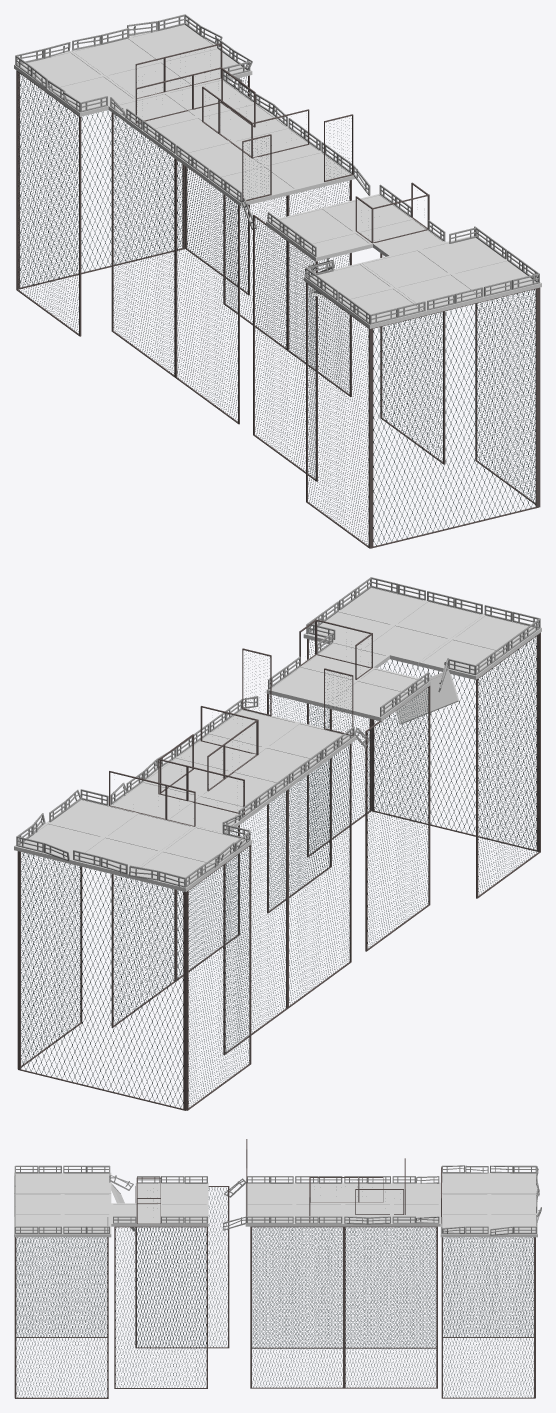
Rendered from stage.fbx.
3 renders of one model, top to bottom at view 1: azimuth 30°, elevation 25°; view 2: azimuth 150°, elevation 25°; view 3: azimuth 270°, elevation 25°, orthographic. The views are drawn at different scales.
Parts seen in each view (by area): view 1: stage1; view 2: stage1; view 3: stage1.
Boxes of the visible parts, bbox=[...] form: stage1: bbox=[14, 14, 541, 548]; stage1: bbox=[14, 577, 541, 1110]; stage1: bbox=[14, 1139, 541, 1398].
Size of the model in its own units: 68.7 by 104 by 238.
4 materials, 2 textured.
